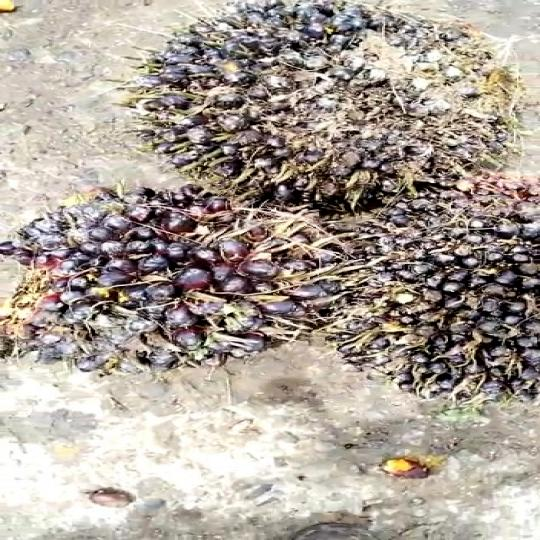mentah: (130, 7, 518, 197), (0, 181, 344, 368), (338, 179, 540, 404)
